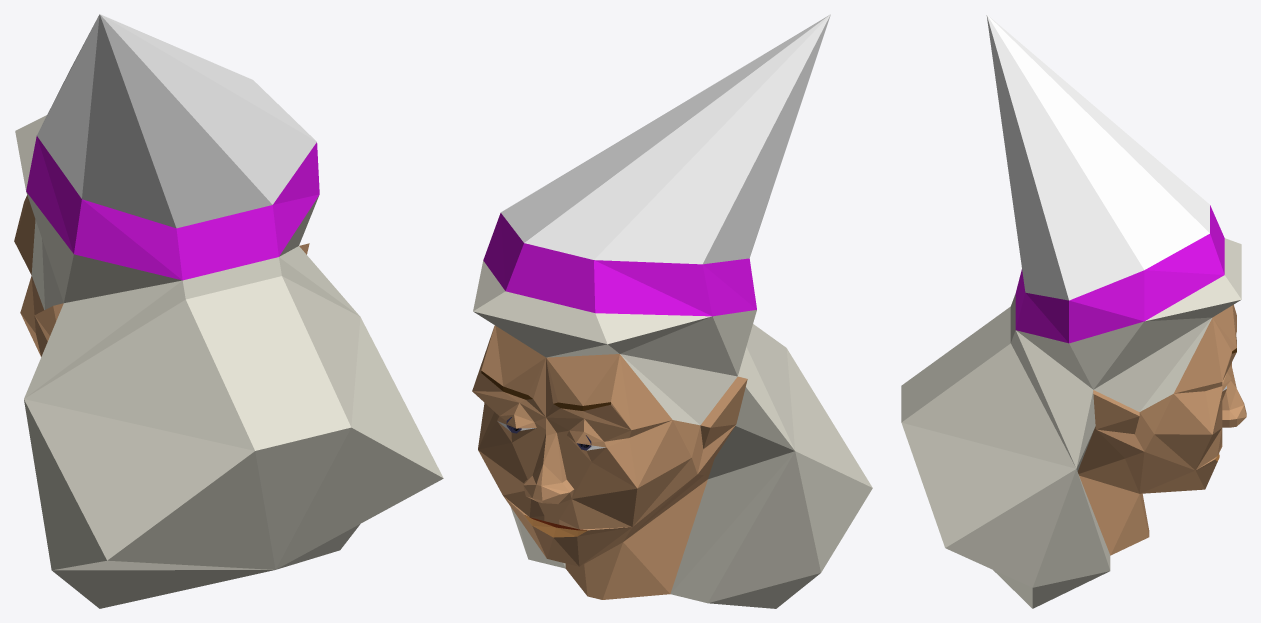
Rendered from npc_chat_jakut_0.obj.
3 views of the same model, side by side, from view 1: azimuth 30°, elevation 25°; view 2: azimuth 150°, elevation 25°; view 3: azimuth 270°, elevation 25° (orthographic). The views are drawn at different scales.
Size of the model in its own units: 0.9844 by 1.74 by 1.11.
